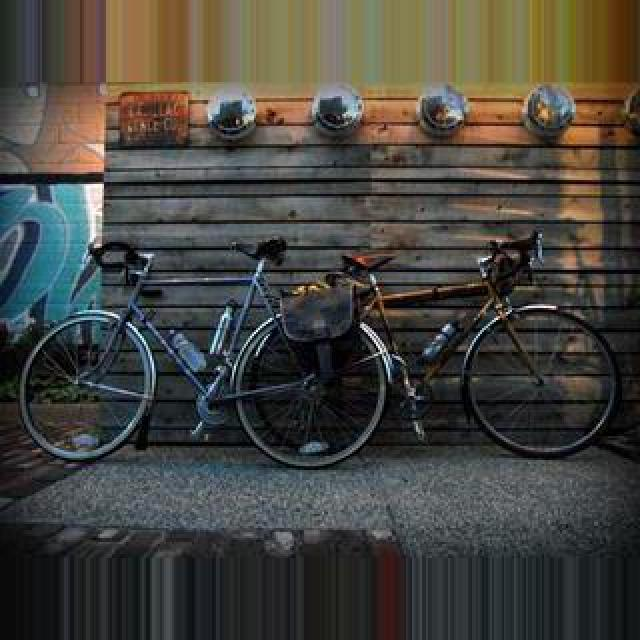Person: (96, 244, 632, 472), (16, 235, 384, 467)
